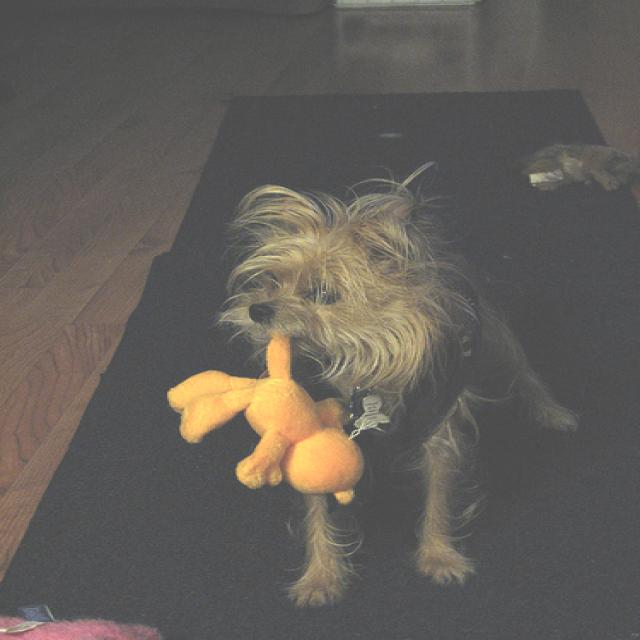Dog: (135, 152, 578, 619)
